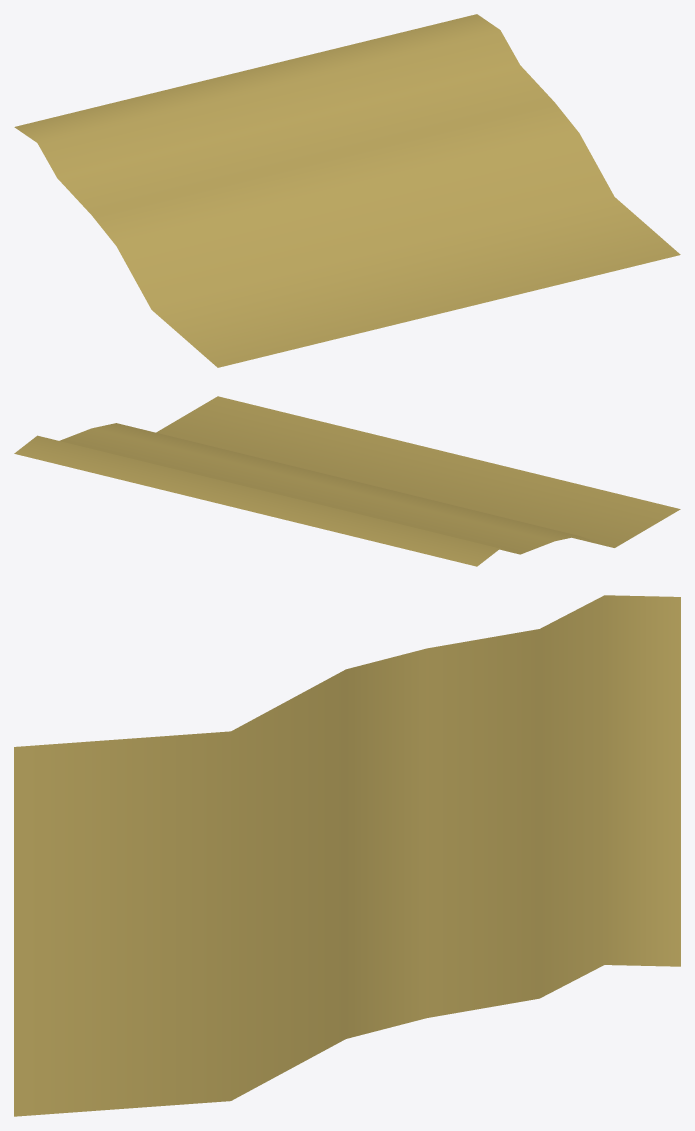
Rendered from Tentacule_Sable_001.FBX.
The picture shows the model from 3 angles, top to bottom: view 1: azimuth 30°, elevation 25°; view 2: azimuth 150°, elevation 25°; view 3: azimuth 270°, elevation 25°; orthographic projection. The views are drawn at different scales.
Visible parts, largest first — view 1: Tentacule_Sand_001; view 2: Tentacule_Sand_001; view 3: Tentacule_Sand_001.
Boxes of the visible parts, box(x1,y1,x2,y2) form: Tentacule_Sand_001: box(14, 14, 680, 367); Tentacule_Sand_001: box(14, 396, 680, 566); Tentacule_Sand_001: box(14, 595, 680, 1116).
Size of the model in its own units: 248 by 47.46 by 189.
